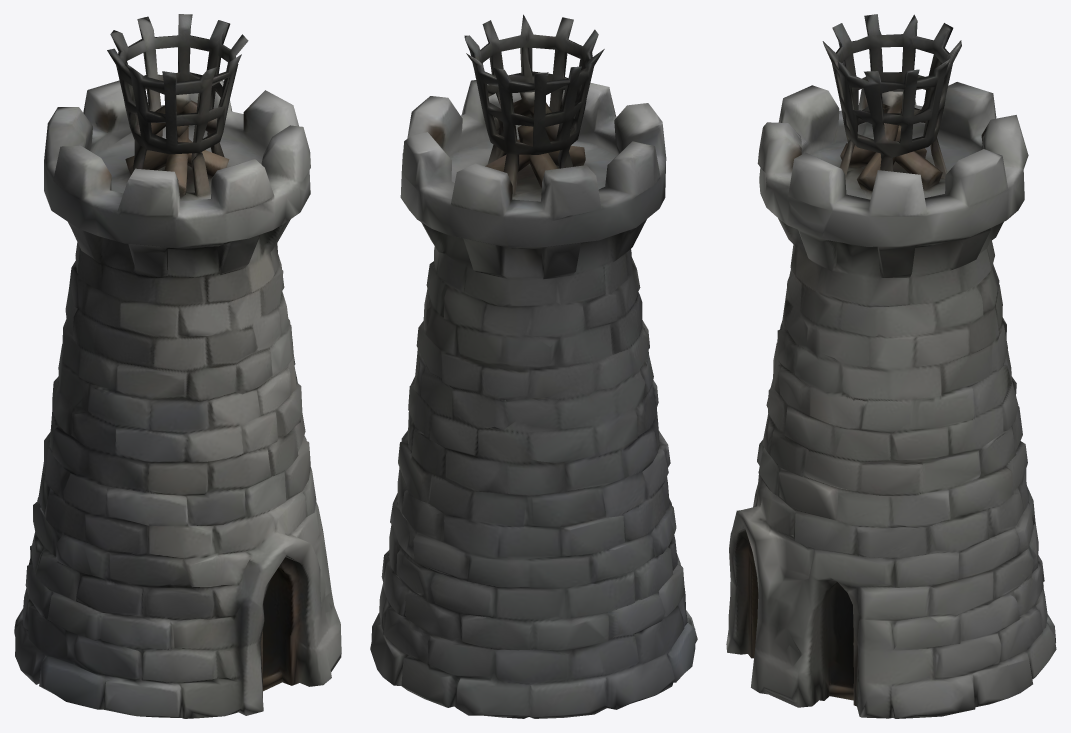
Rendered from beacon.glb.
3 renders of one model, left to right at view 1: azimuth 30°, elevation 25°; view 2: azimuth 150°, elevation 25°; view 3: azimuth 270°, elevation 25°, orthographic.
Visible parts, largest first — view 1: tripo_node_54462304-987f-4c0f-87b2-389539fd2793; view 2: tripo_node_54462304-987f-4c0f-87b2-389539fd2793; view 3: tripo_node_54462304-987f-4c0f-87b2-389539fd2793.
Boxes of the visible parts, box(x1,y1,x2,y2) form: tripo_node_54462304-987f-4c0f-87b2-389539fd2793: box(14, 14, 341, 718); tripo_node_54462304-987f-4c0f-87b2-389539fd2793: box(370, 14, 697, 718); tripo_node_54462304-987f-4c0f-87b2-389539fd2793: box(726, 14, 1056, 718).
Bounding box in the file's own units: 0.4892 × 1 × 0.4916.
Materials: 1 (1 with a texture image).
